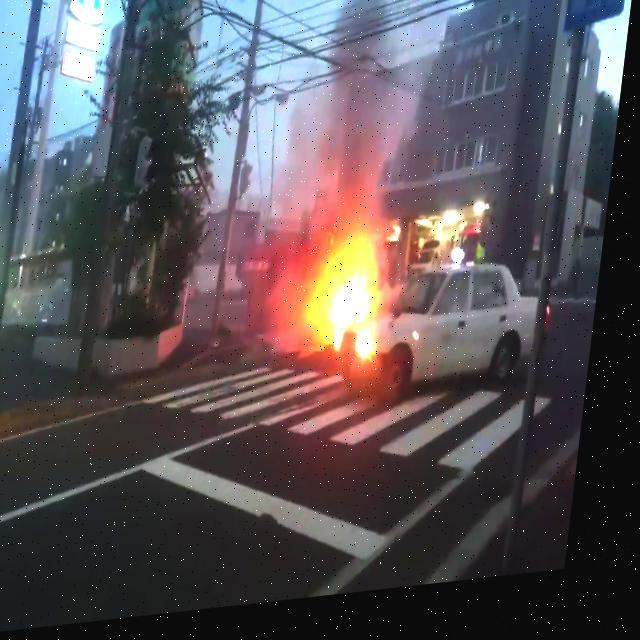Fire: (314, 246, 396, 370)
